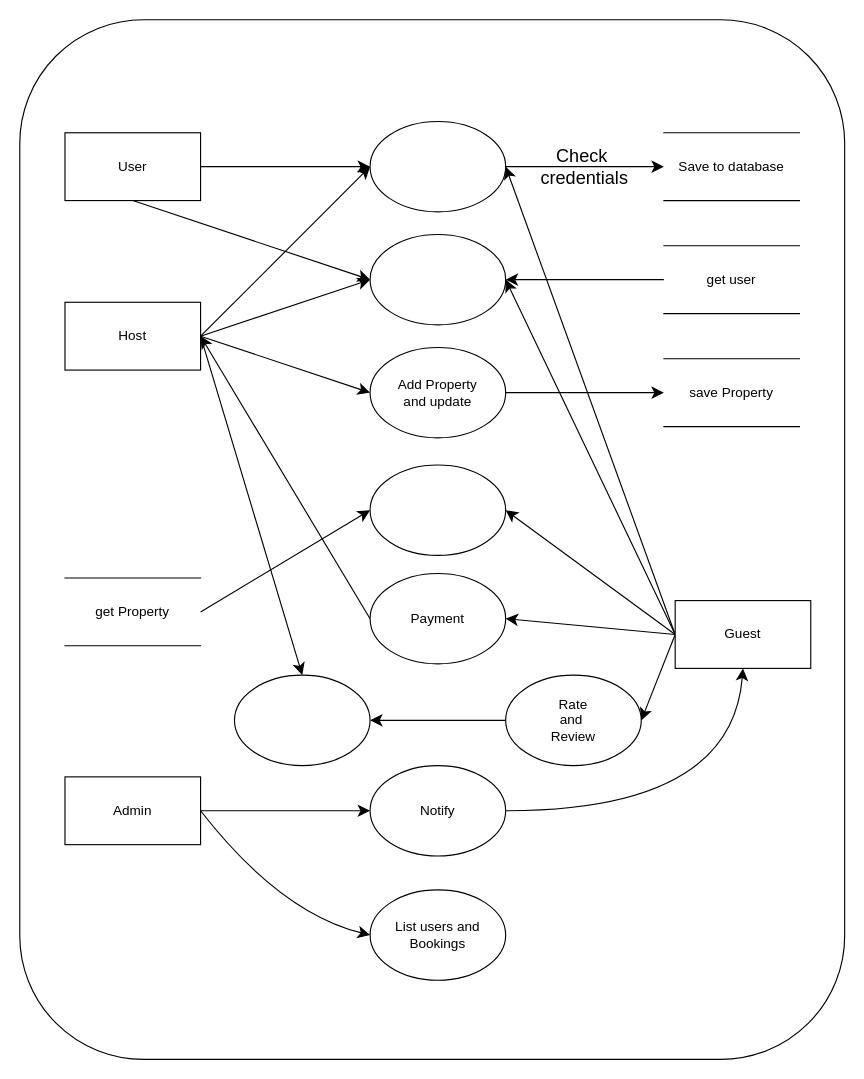
Image size: 864x1079. Some labels were removed from this diagram. The shapes that lost their labels are listed below. From the top down, each one's centre as x and y in pixels, then its label:
At [437,166]: "Sign up".
At [437,279]: "Log in".
At [437,509]: "Search and filter Property".
At [301,720]: "Respond Review".
